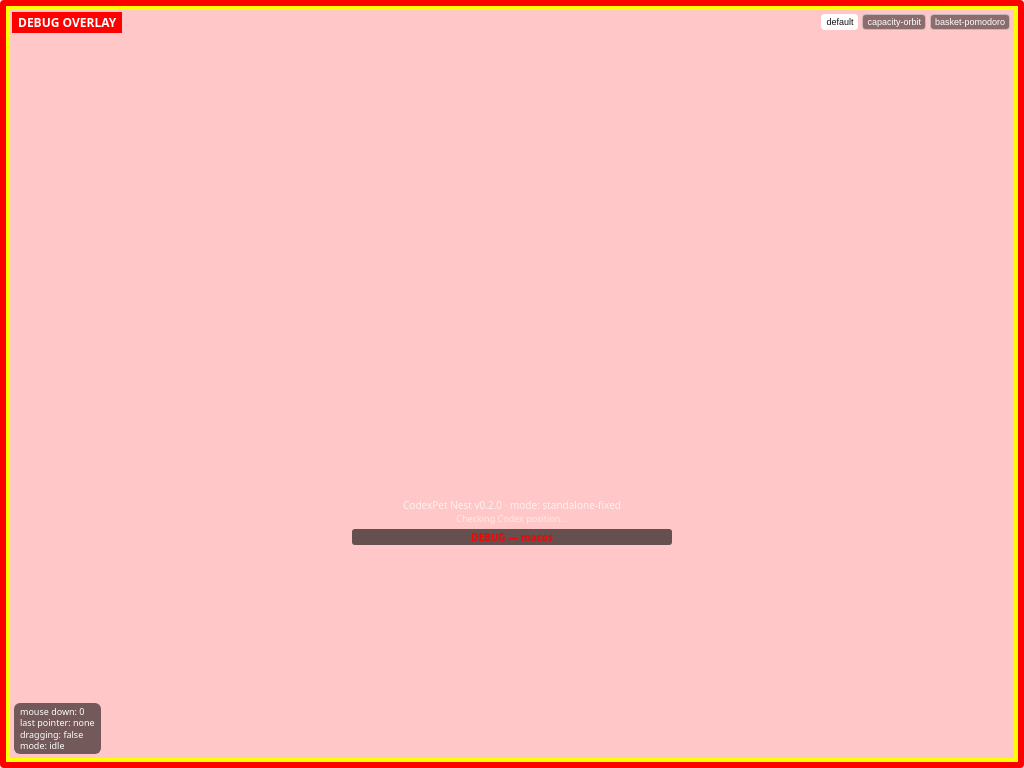
Scenario: OverlayApp › should persist manual position after standalone drag fallback
Press the mouse on the element with test id "overlay-drag-region" at {"x": 469, "y": 24}, box [98, 14, 840, 34]
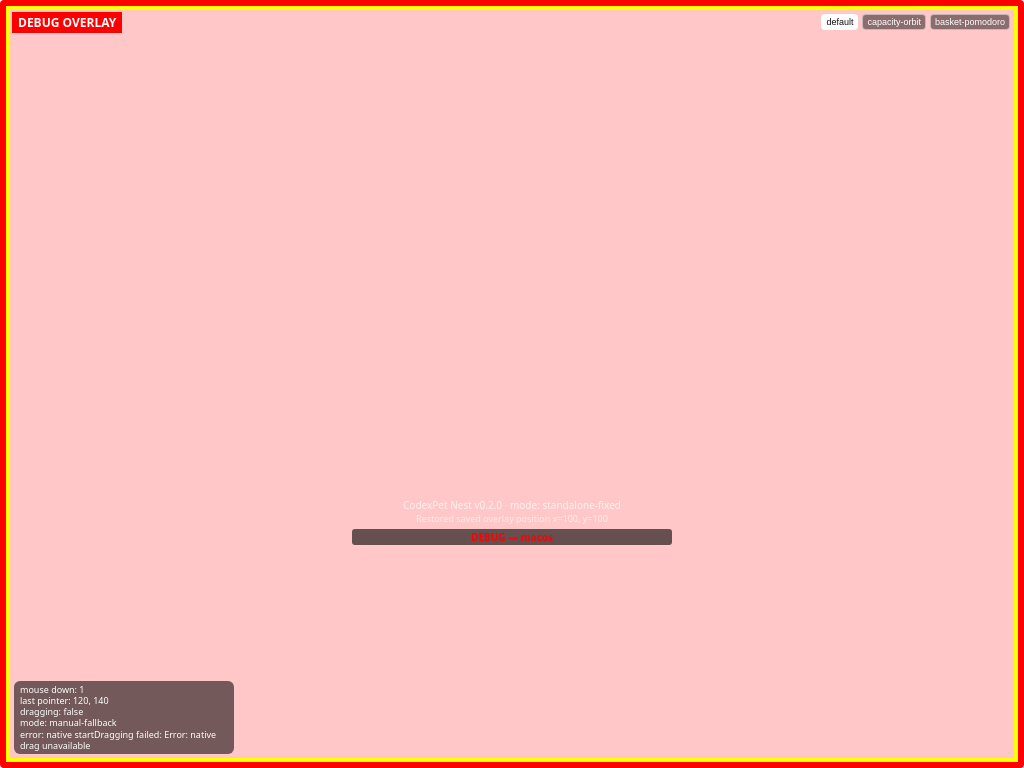
Expected: the text "mode: manual-fallback" is shown, [20, 716, 117, 729]
